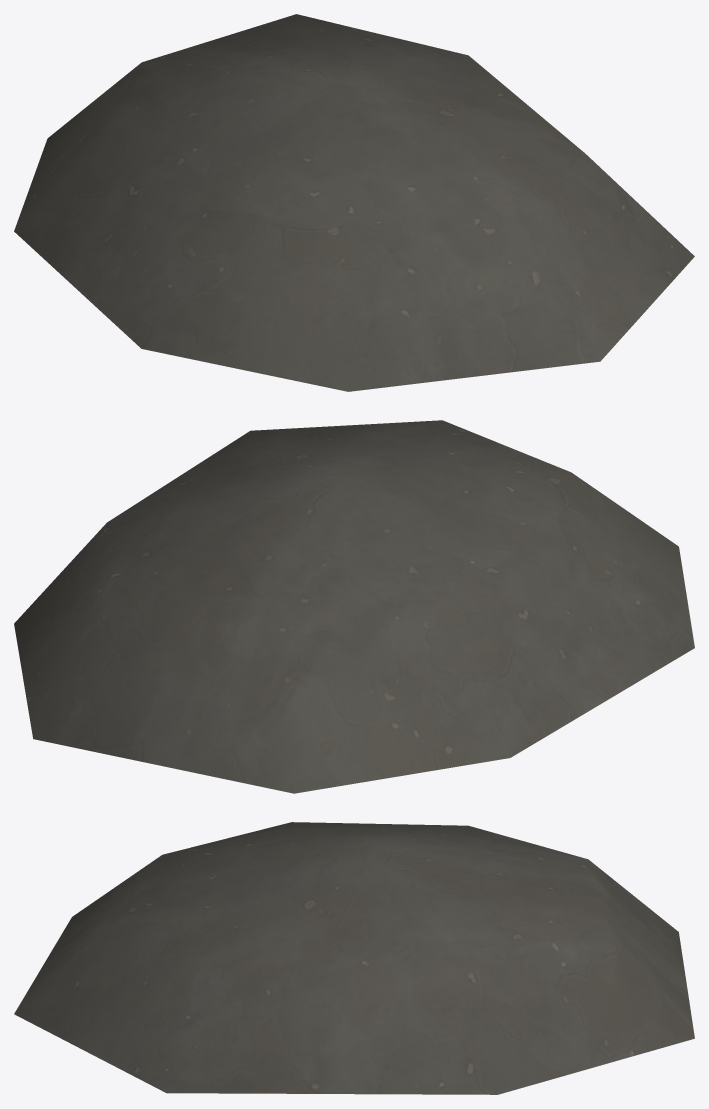
The model's file is sm_bg_dummy_dirt_01.fbx.
3 renders of one model, top to bottom at view 1: azimuth 30°, elevation 25°; view 2: azimuth 150°, elevation 25°; view 3: azimuth 270°, elevation 25°, orthographic. The views are drawn at different scales.
Parts seen in each view (by area): view 1: Box234; view 2: Box234; view 3: Box234.
Boxes of the visible parts, x1,y1,x2,y2 form: Box234: (14, 14, 694, 391); Box234: (14, 420, 694, 793); Box234: (14, 822, 694, 1094).
Bounding box in the file's own units: 95.56 × 27.03 × 121.
Materials: 1 (1 with a texture image).
